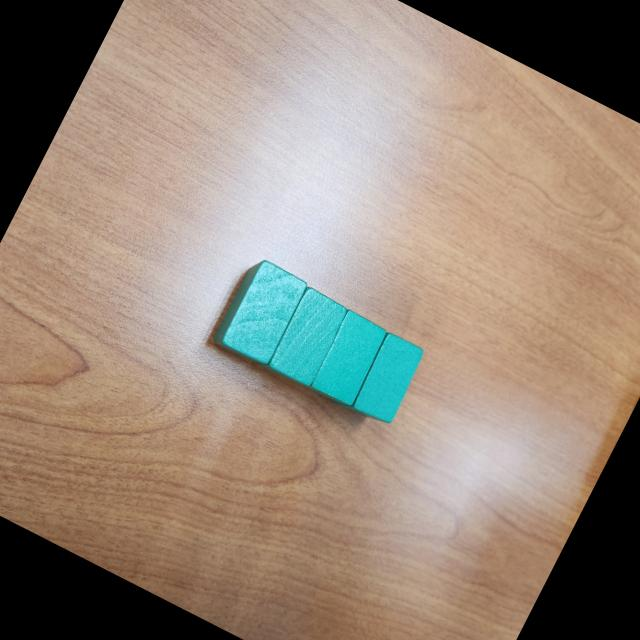green: (210, 255, 310, 372), (254, 280, 352, 393), (332, 324, 428, 432), (306, 308, 390, 412)
